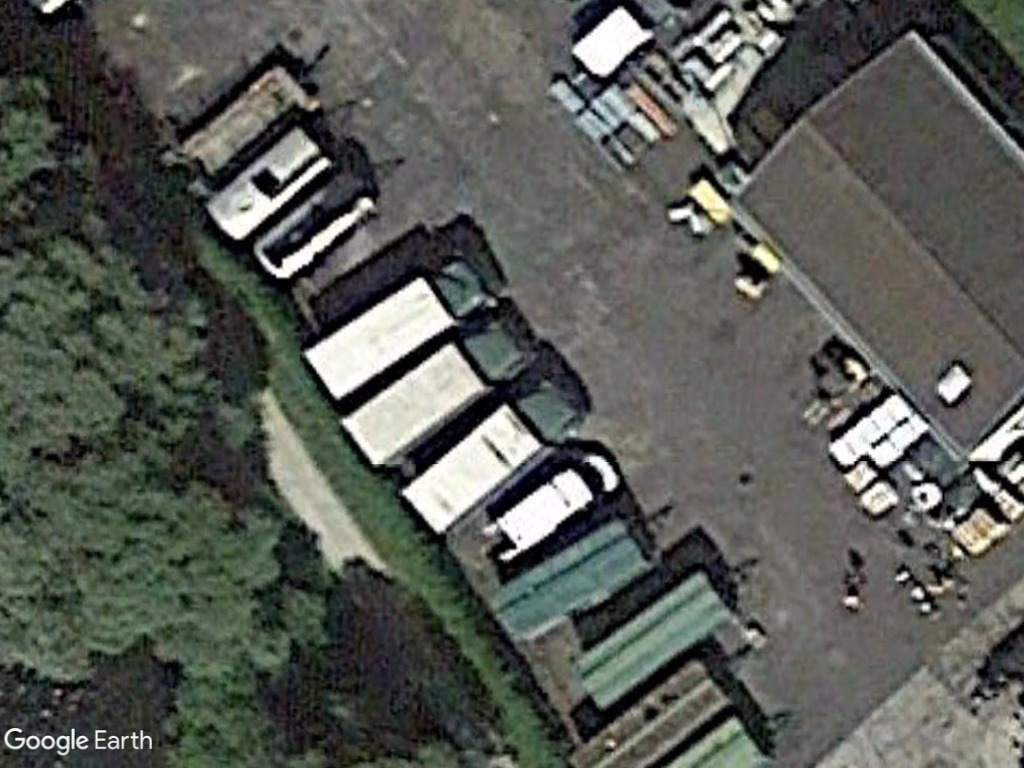truck: (327, 297, 535, 484), (395, 363, 594, 541), (290, 252, 495, 408)
van: (487, 448, 625, 553)
